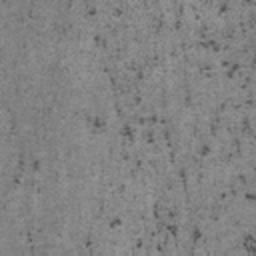Oxide scale of temperature system: (87, 0, 256, 202), (109, 204, 202, 252), (13, 151, 42, 195), (24, 228, 42, 252), (241, 233, 256, 256), (84, 233, 92, 248), (182, 95, 192, 104)
